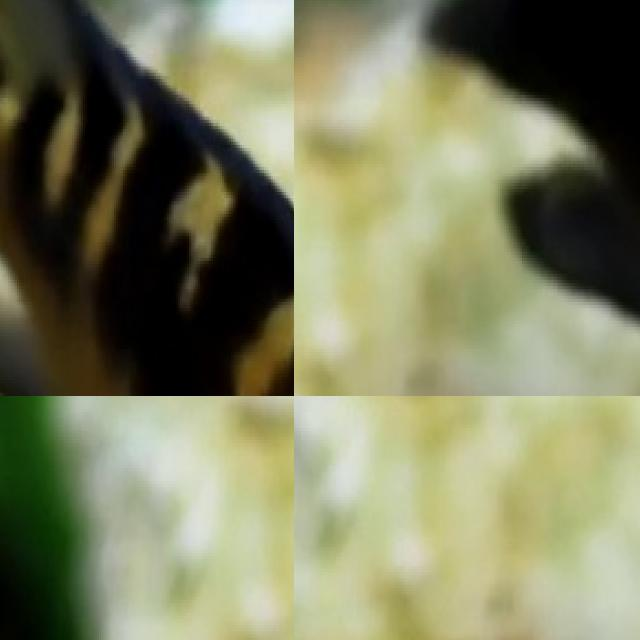fish: (0, 0, 294, 396), (440, 0, 640, 396)
